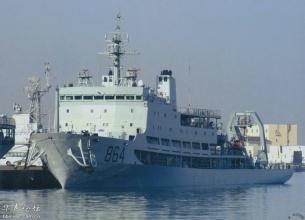warship: (33, 13, 292, 188)
